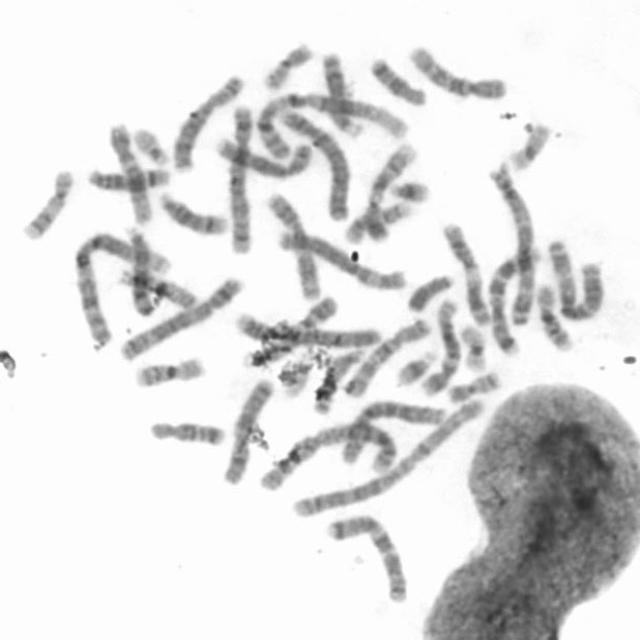A1: (69, 226, 169, 350), (253, 86, 412, 159)
A2: (284, 392, 489, 521), (253, 414, 403, 494)
A3: (482, 160, 540, 328), (544, 234, 609, 322)
B4: (275, 100, 353, 223), (229, 307, 384, 349)
B5: (113, 270, 246, 363), (223, 97, 258, 257)
C10: (340, 312, 433, 400), (403, 38, 511, 102)
C11: (260, 185, 325, 302), (436, 216, 491, 326)
C12: (102, 118, 156, 225), (417, 292, 463, 398)
C6: (272, 225, 411, 292), (336, 393, 452, 466)
C7: (321, 506, 410, 604), (484, 243, 544, 357)
C8: (169, 69, 247, 173), (210, 130, 317, 181)
C9: (244, 292, 340, 368), (360, 138, 420, 242)
D13: (316, 44, 364, 138), (308, 342, 368, 416)
D14: (153, 185, 231, 237), (83, 159, 175, 192)
D15: (119, 220, 161, 318), (114, 264, 201, 311)
E16: (530, 278, 576, 353), (130, 350, 208, 389)
E17: (16, 162, 76, 242), (339, 195, 416, 246)
E18: (364, 51, 430, 107), (144, 413, 228, 448)
F19: (501, 116, 554, 173), (454, 319, 490, 373)
F20: (257, 35, 316, 92), (444, 365, 504, 404)
G21: (391, 343, 439, 388), (384, 173, 434, 204)
G22: (129, 121, 172, 166), (278, 352, 314, 399)
X: (216, 373, 276, 486)
Y: (403, 267, 457, 314)
